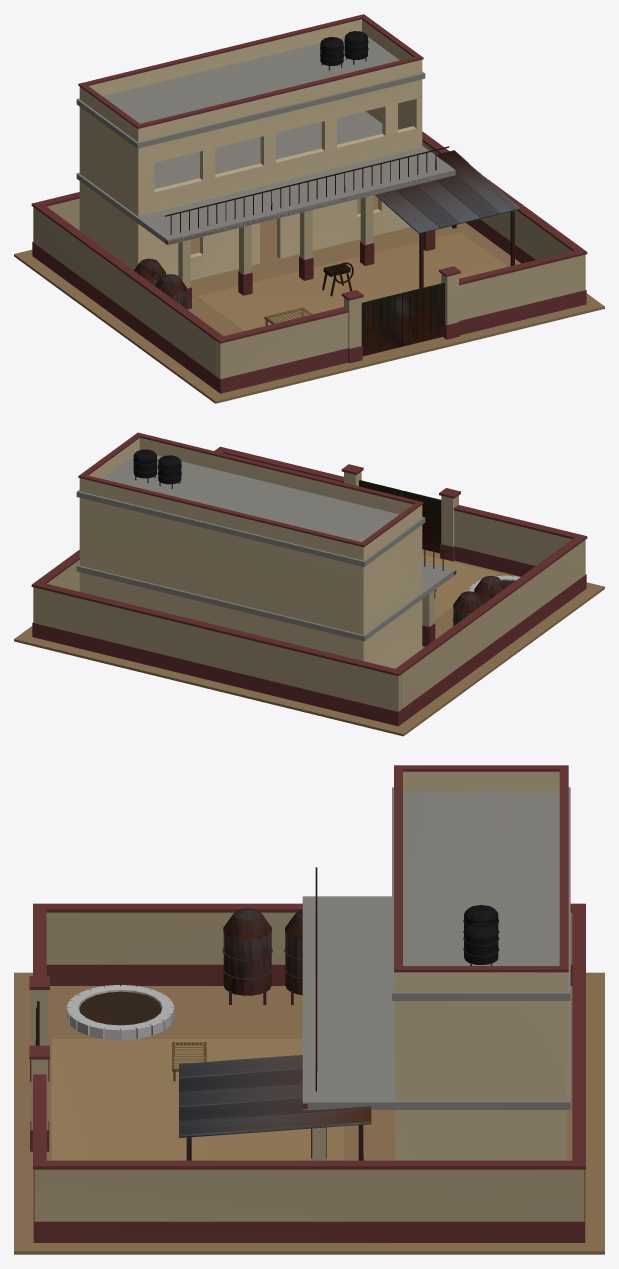
Rendered from house_kit_h.glb.
3 renders of one model, top to bottom at view 1: azimuth 30°, elevation 25°; view 2: azimuth 150°, elevation 25°; view 3: azimuth 270°, elevation 25°, orthographic. The views are drawn at different scales.
Parts seen in each view (by area): view 1: hb_main, hb_metal, hb_tin; view 2: hb_main, hb_metal; view 3: hb_main, hb_tin, hb_metal, hb_brick.
Part boxes in pixels (x1,y1,x2,y2): hb_main: (14,14,604,403); hb_metal: (134,146,514,356); hb_tin: (375,150,519,233); hb_main: (14,432,604,736); hb_metal: (359,480,505,625); hb_main: (14,765,604,1254); hb_tin: (179,1055,371,1138); hb_metal: (35,867,363,1160); hb_brick: (66,985,174,1039).
Bounding box in the file's own units: 19.2 × 8.51 × 17.2.
